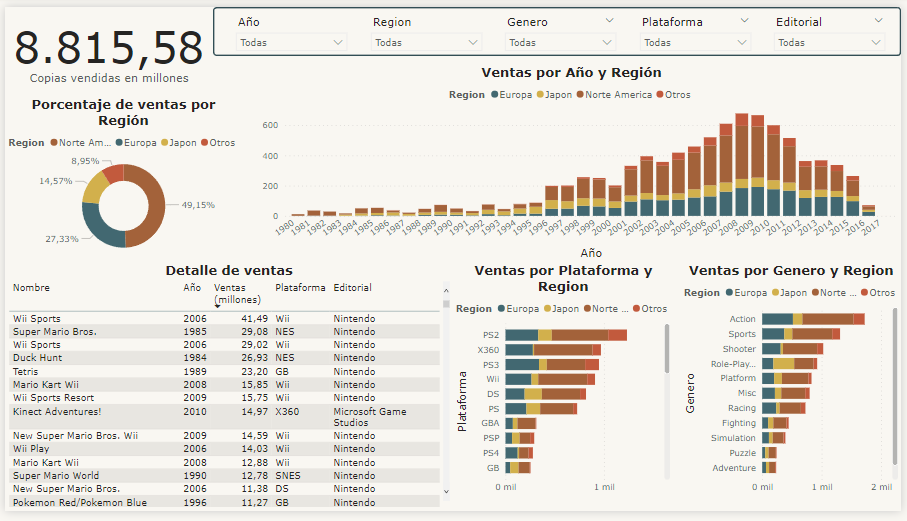

Layout of this report page (visuals, bound fields, positions):
{"tool":"powerbi","page":{"name":"Página 1","canvas":[1280,720],"ordinal":0},"visuals":[{"type":"shape","box":[297.1,0,982.9,70],"z":0},{"type":"tableEx","title":"Detalle de ventas","fields":{"Values":["Ventas Videojuegos.Nombre","Ventas Videojuegos.Año","Ventas Videojuegos.Ventas(millones)","Ventas Videojuegos.Plataforma","Ventas Videojuegos.Editorial"]},"box":[0,365,640,355],"z":1000},{"type":"columnChart","title":"Ventas por Año y Región","fields":{"Category":["Ventas Videojuegos.Año"],"Y":["Sum(Ventas Videojuegos.Ventas(millones))"],"Series":["Ventas Videojuegos.Region"]},"box":[338.6,81.4,941.4,284.3],"z":2000},{"type":"donutChart","title":"Porcentaje de ventas por Región","fields":{"Category":["Ventas Videojuegos.Region"],"Y":["Sum(Ventas Videojuegos.Ventas(millones))"]},"box":[0,127.1,338.6,238.6],"z":3000},{"type":"barChart","title":"Ventas por Plataforma y Region","fields":{"Category":["Ventas Videojuegos.Plataforma"],"Y":["Sum(Ventas Videojuegos.Ventas(millones))"],"Series":["Ventas Videojuegos.Region"]},"box":[640,365,315,355],"z":4000},{"type":"card","fields":{"Values":["Sum(Ventas Videojuegos.Ventas(millones))"]},"box":[0,0,297.1,127.1],"z":5000},{"type":"slicer","fields":{"Values":["Ventas Videojuegos.Editorial"]},"box":[1088.6,5.7,178.6,60],"z":6000},{"type":"slicer","fields":{"Values":["Ventas Videojuegos.Año"]},"box":[320,5.7,178.6,60],"z":7000},{"type":"slicer","fields":{"Values":["Ventas Videojuegos.Genero"]},"box":[704.3,5.7,178.6,60],"z":8000},{"type":"slicer","fields":{"Values":["Ventas Videojuegos.Region"]},"box":[512.1,5.7,178.6,60],"z":9000},{"type":"slicer","fields":{"Values":["Ventas Videojuegos.Plataforma"]},"box":[896.4,5.7,178.6,60],"z":10000},{"type":"barChart","title":"Ventas por Genero y Region","fields":{"Y":["Sum(Ventas Videojuegos.Ventas(millones))"],"Series":["Ventas Videojuegos.Region"],"Category":["Ventas Videojuegos.Genero"]},"box":[965,365,315,355],"z":11000}]}

Visuals, with their boxes in screenshot pixels (x1, y1, x2, y2), scaled from the page's 1280x720 canvas onto the 907x521 screenshot:
shape: [left=211, top=0, right=906, bottom=51]
"Detalle de ventas" tableEx: [left=0, top=264, right=454, bottom=520]
"Ventas por Año y Región" columnChart: [left=240, top=59, right=906, bottom=265]
"Porcentaje de ventas por Región" donutChart: [left=0, top=92, right=240, bottom=265]
"Ventas por Plataforma y Region" barChart: [left=454, top=264, right=677, bottom=520]
card - Sum(Ventas Videojuegos.Ventas(millones)): [left=0, top=0, right=211, bottom=92]
slicer - Ventas Videojuegos.Editorial: [left=771, top=4, right=898, bottom=48]
slicer - Ventas Videojuegos.Año: [left=227, top=4, right=353, bottom=48]
slicer - Ventas Videojuegos.Genero: [left=499, top=4, right=626, bottom=48]
slicer - Ventas Videojuegos.Region: [left=363, top=4, right=489, bottom=48]
slicer - Ventas Videojuegos.Plataforma: [left=635, top=4, right=762, bottom=48]
"Ventas por Genero y Region" barChart: [left=684, top=264, right=906, bottom=520]
